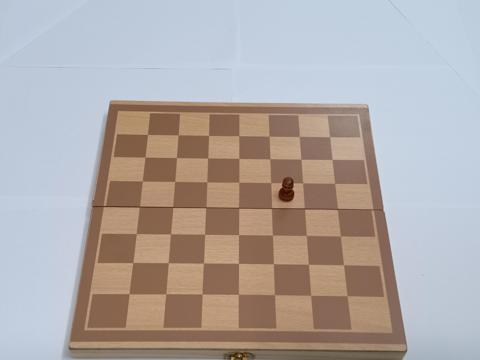xcorner: (128, 259, 138, 269), (264, 131, 274, 141), (267, 231, 277, 241), (268, 260, 278, 270), (269, 291, 279, 301), (305, 291, 315, 301), (143, 131, 153, 140), (135, 203, 144, 213), (132, 230, 141, 240), (125, 290, 134, 300), (163, 260, 173, 269), (161, 290, 170, 300), (199, 231, 209, 240), (198, 260, 208, 269), (234, 131, 243, 141), (234, 178, 243, 188), (233, 231, 243, 240), (233, 260, 243, 269), (265, 154, 274, 164), (266, 178, 275, 188), (296, 154, 305, 164), (300, 204, 309, 214), (301, 232, 311, 241), (303, 261, 313, 270), (327, 155, 337, 164), (332, 205, 342, 214), (335, 232, 345, 241), (338, 261, 348, 270), (141, 154, 150, 163), (138, 178, 147, 187), (174, 131, 183, 140), (172, 154, 181, 163), (170, 178, 179, 187), (168, 204, 177, 213), (166, 231, 175, 240), (204, 131, 213, 140), (203, 154, 212, 163), (202, 178, 211, 187), (201, 204, 210, 213), (197, 291, 206, 300), (234, 154, 243, 163), (234, 204, 243, 213), (233, 291, 242, 300), (267, 204, 276, 213), (295, 132, 304, 141), (298, 179, 307, 188), (325, 132, 334, 141), (330, 179, 339, 188), (342, 292, 351, 301)
